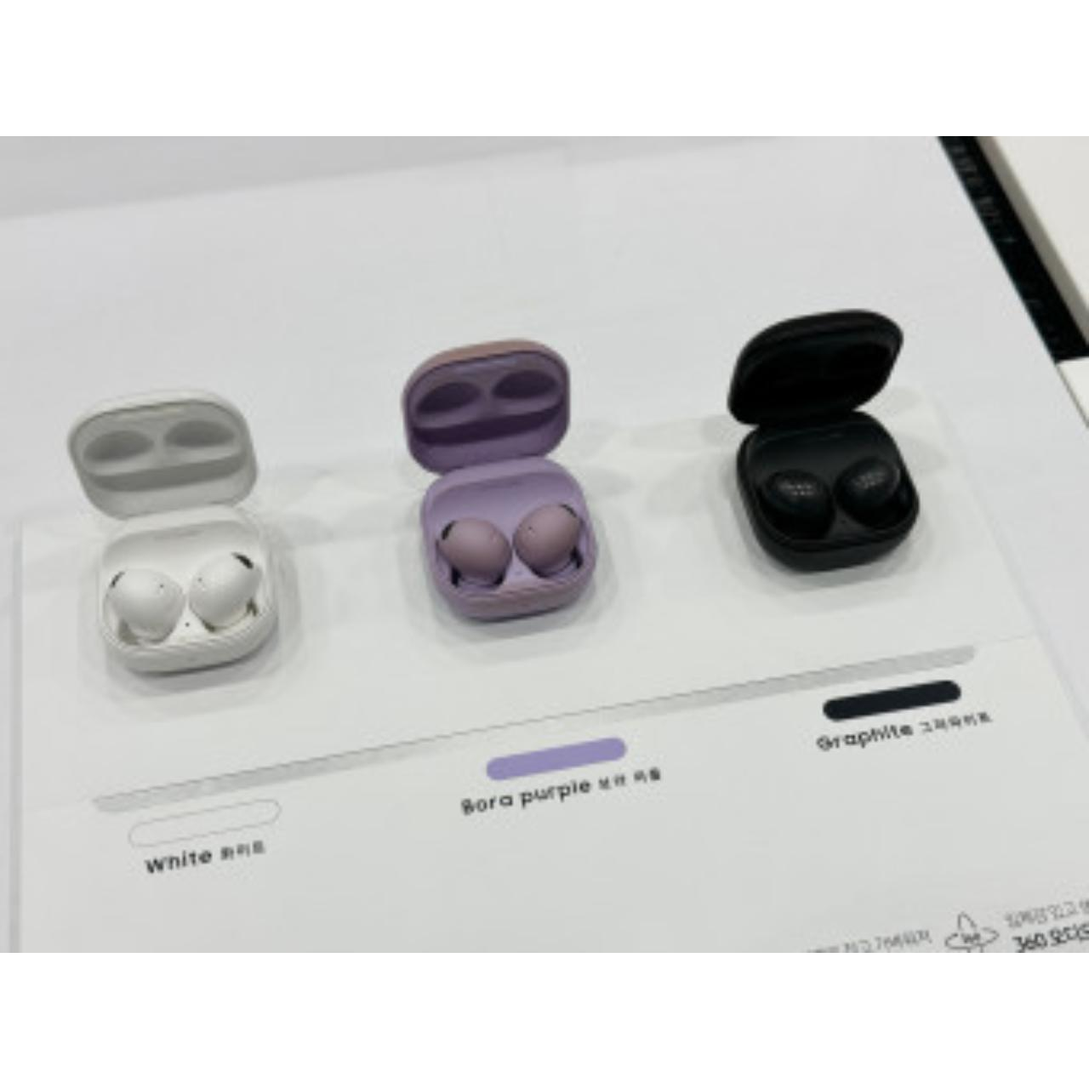Buds: (61, 382, 285, 688), (392, 330, 602, 633), (725, 302, 927, 589)
Buds_Units: (186, 545, 265, 646), (102, 559, 185, 653), (754, 466, 839, 553), (433, 515, 514, 596), (835, 452, 909, 537), (514, 502, 588, 583)
